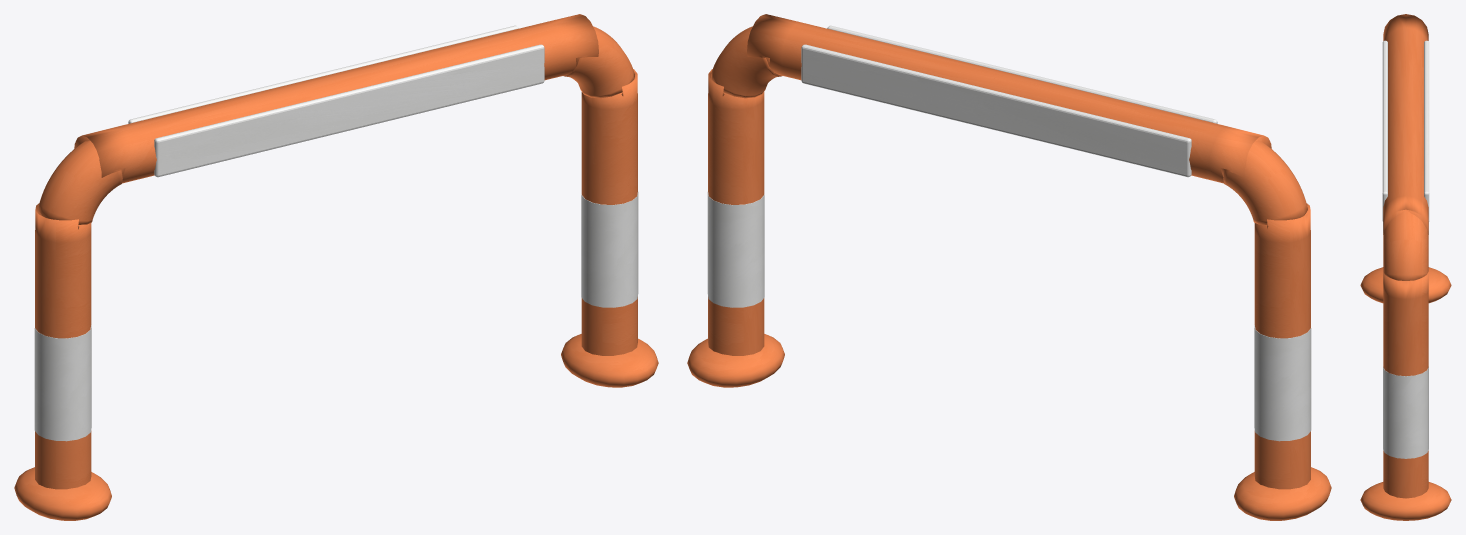
The model's file is arch.glb.
3 views of the same model, side by side, from view 1: azimuth 30°, elevation 25°; view 2: azimuth 150°, elevation 25°; view 3: azimuth 270°, elevation 25° (orthographic). The views are drawn at different scales.
Parts seen in each view (by area): view 1: arch; view 2: arch; view 3: arch.
Boxes of the visible parts, bbox=[...] form: arch: bbox=[14, 14, 658, 520]; arch: bbox=[687, 14, 1331, 520]; arch: bbox=[1360, 14, 1451, 520].
Size of the model in its own units: 8.94 by 5 by 1.4.
1 material, 1 textured.
